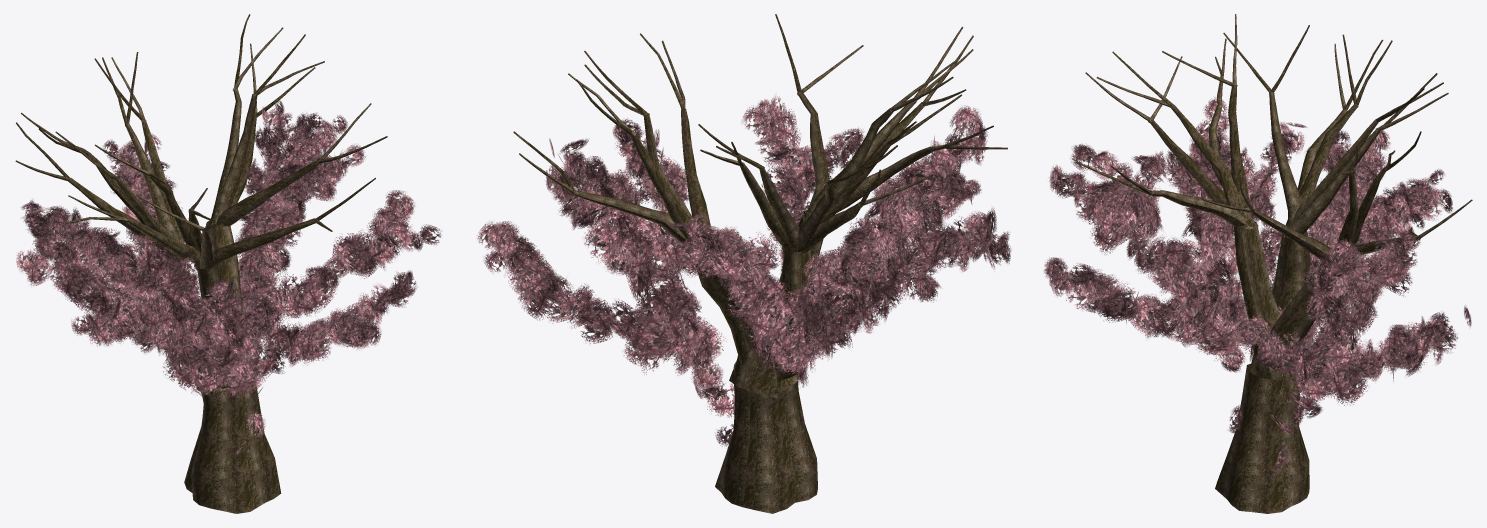
File: blossom_2x_1.glb
The picture shows the model from 3 angles, left to right: view 1: azimuth 30°, elevation 25°; view 2: azimuth 150°, elevation 25°; view 3: azimuth 270°, elevation 25°; orthographic projection. The views are drawn at different scales.
Parts seen in each view (by area): view 1: blossom; view 2: blossom; view 3: blossom.
Boxes of the visible parts, bbox=[...] form: blossom: bbox=[15, 14, 442, 513]; blossom: bbox=[476, 14, 1011, 513]; blossom: bbox=[1043, 14, 1472, 513].
Bounding box in the file's own units: 30.22 × 30.22 × 28.8.
Materials: 2 (2 with a texture image).
